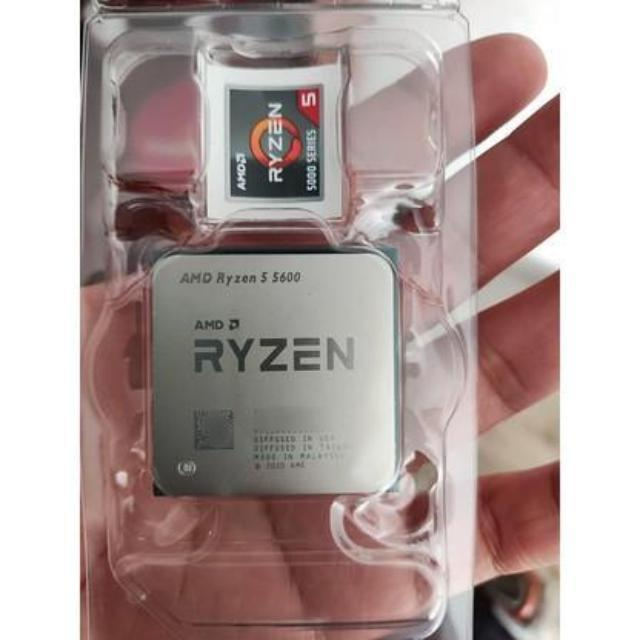CPU: (147, 248, 399, 498)
